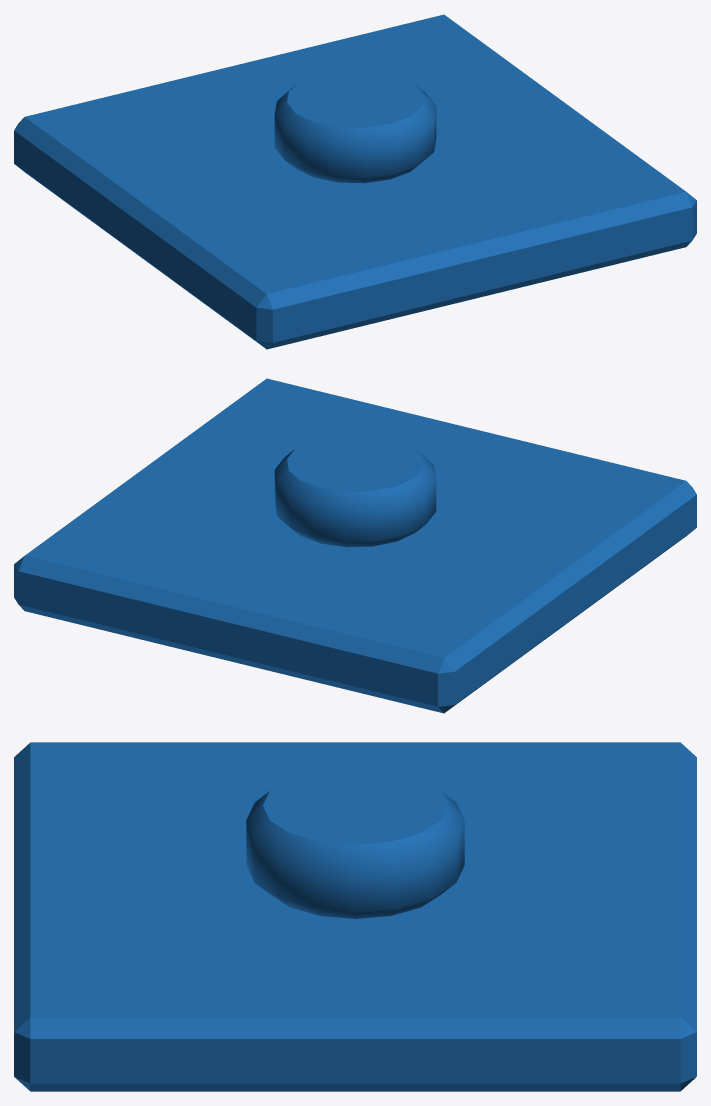
The model's file is product_lid_blue.glb.
3 renders of one model, top to bottom at view 1: azimuth 30°, elevation 25°; view 2: azimuth 150°, elevation 25°; view 3: azimuth 270°, elevation 25°, orthographic. The views are drawn at different scales.
Visible parts, largest first — view 1: Item; view 2: Item; view 3: Item.
Boxes of the visible parts, box(x1,y1,x2,y2) form: Item: box(14, 14, 696, 349); Item: box(14, 378, 696, 713); Item: box(14, 742, 696, 1091).
Bounding box in the file's own units: 0.25 × 0.06 × 0.25.
